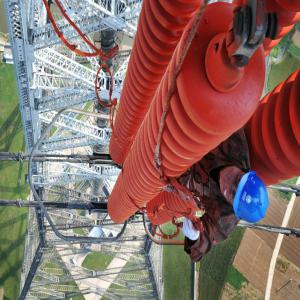blue: (219, 163, 270, 226)
